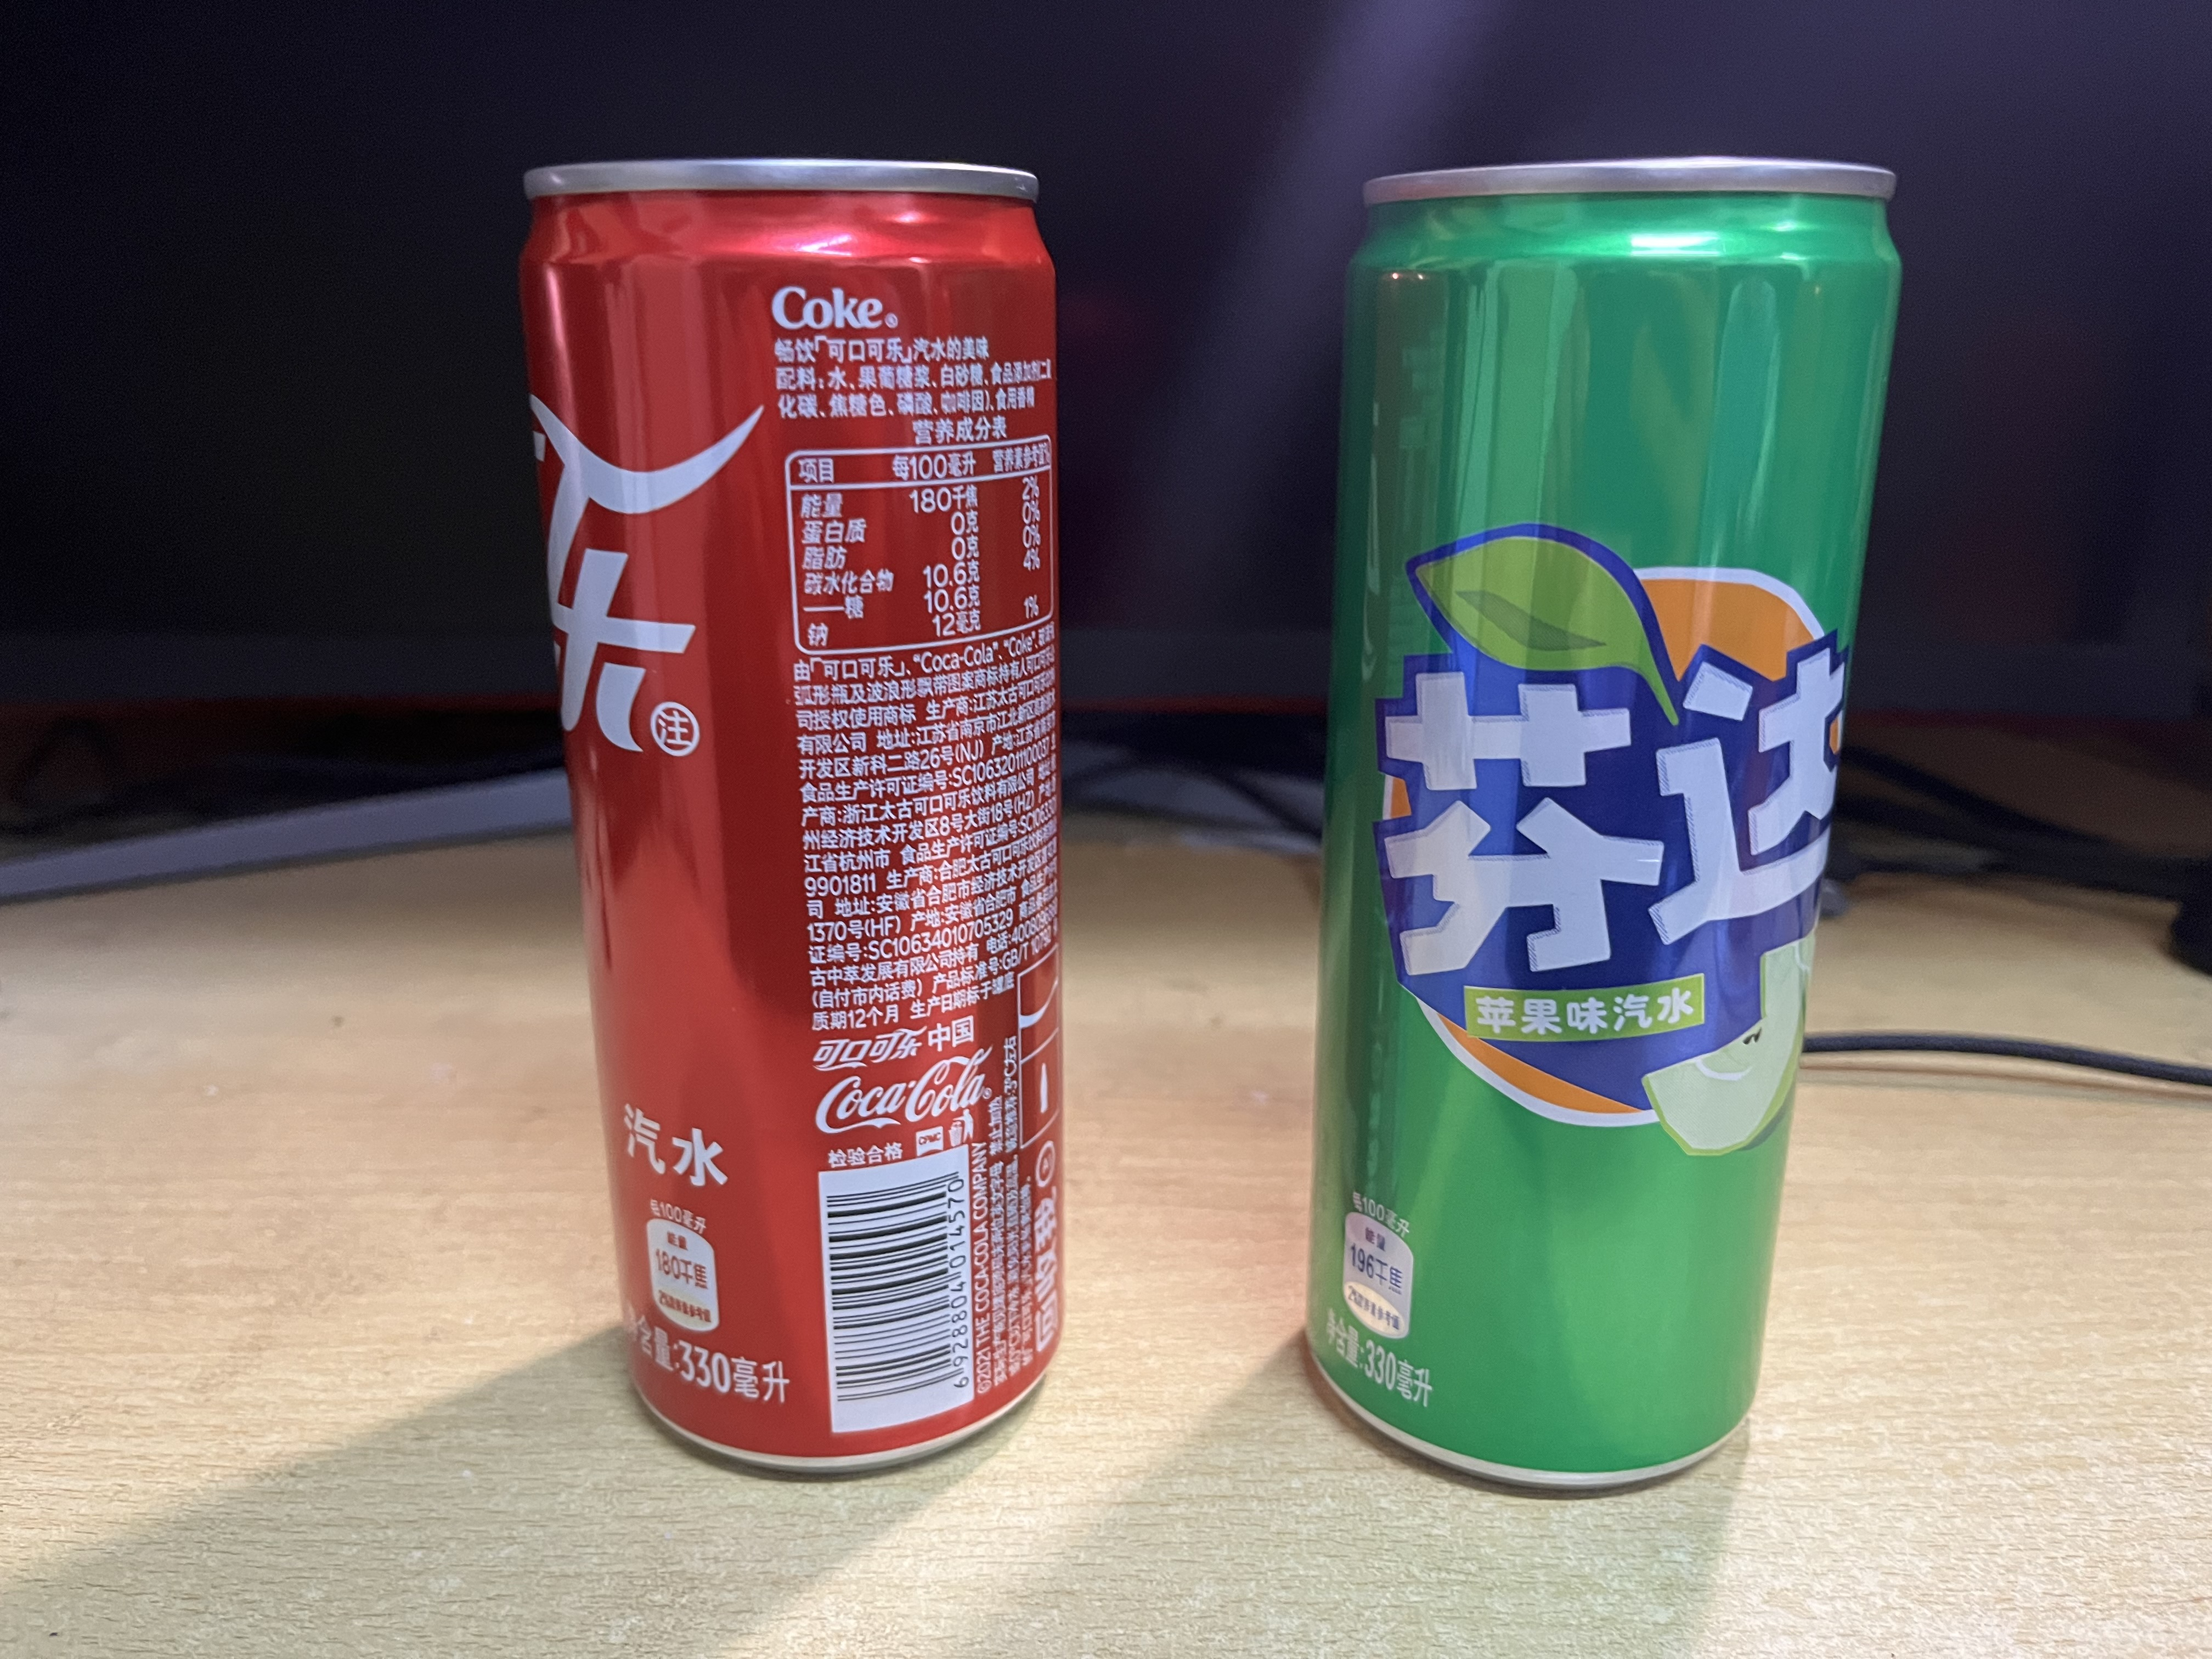CocaCola: (514, 153, 1062, 1474)
FANTA_Apple: (1301, 152, 1904, 1485)
